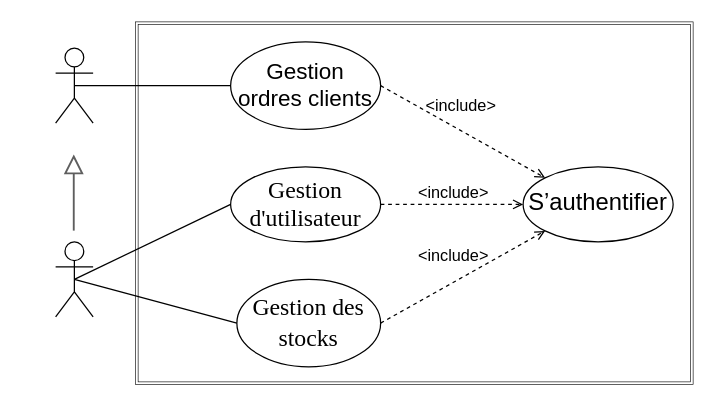
The diagram is 715 pixels wide and 406 high, and some of its shapes have lost their labels. The shapes that lost their labels are listed below. From the top down, each one's centre as x and y in pixels, then its label:
point 73,85: Responsable
point 73,279: Administrateur
